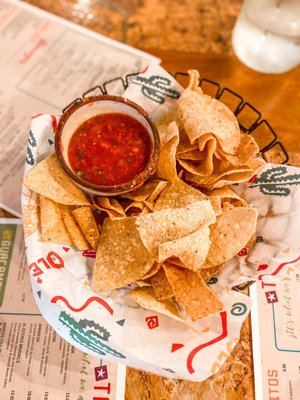sushi: (54, 95, 160, 196)
